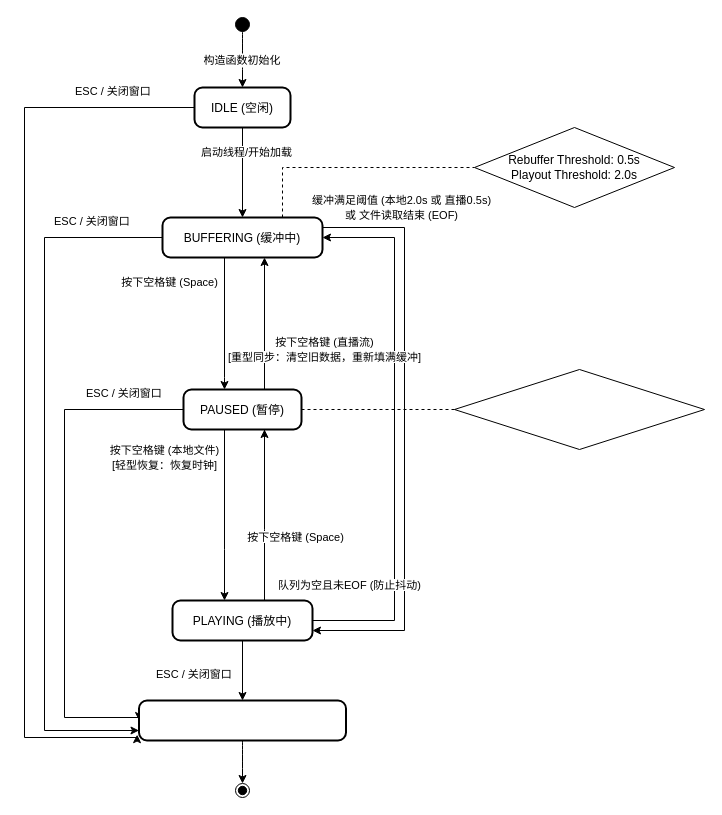
Some shapes in this 722 by 815 pixel diagram are drawn without their labels. Each missing label, with the box of its shape:
STOPPED/EXIT (停止/退出): (138, 699, 346, 741)
直播流特殊处理： 暂停恢复时为了消除积压延迟 会强制切回 BUFFERING 状态 并清空 PacketQueue: (454, 368, 704, 450)
